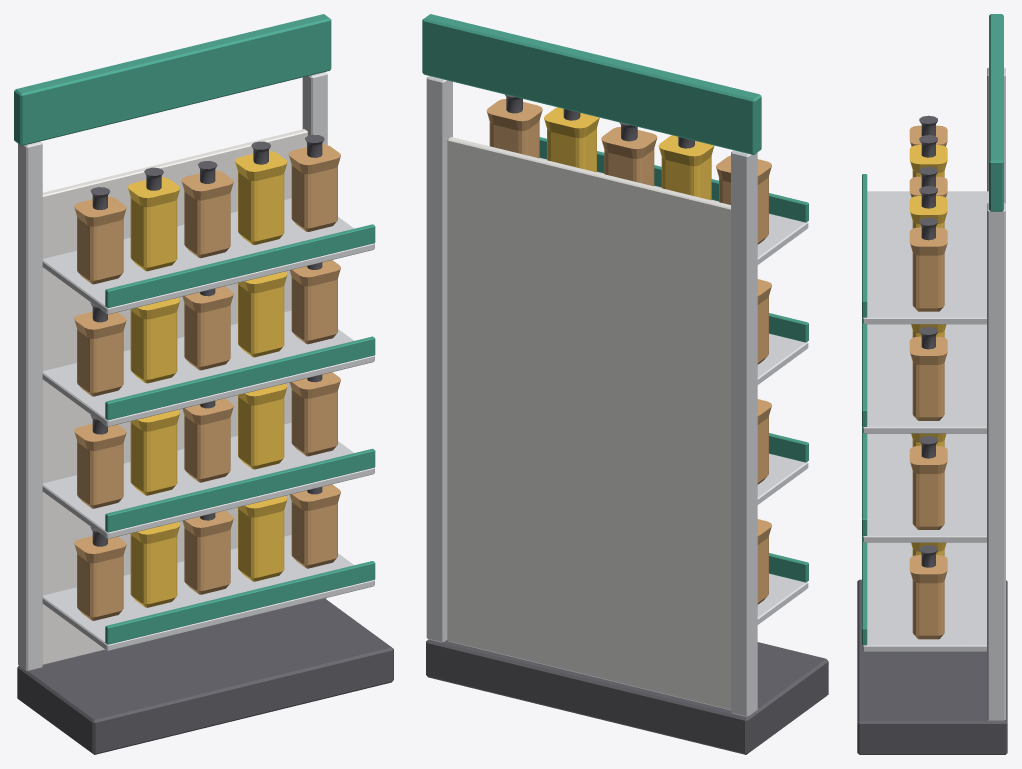
Rendered from petrol-station-and-forecourt-shop-oil-shelf-unit-dfd4730a__33983.glb.
3 renders of one model, left to right at view 1: azimuth 30°, elevation 25°; view 2: azimuth 150°, elevation 25°; view 3: azimuth 270°, elevation 25°, orthographic. The views are drawn at different scales.
Visible parts, largest first — view 1: oil-shelf-unit; view 2: oil-shelf-unit; view 3: oil-shelf-unit.
Boxes of the visible parts, box(x1,y1,x2,y2) form: oil-shelf-unit: box(14, 14, 393, 754); oil-shelf-unit: box(422, 14, 828, 754); oil-shelf-unit: box(857, 14, 1007, 754).
Bounding box in the file's own units: 0.9301 × 1.75 × 0.4.
